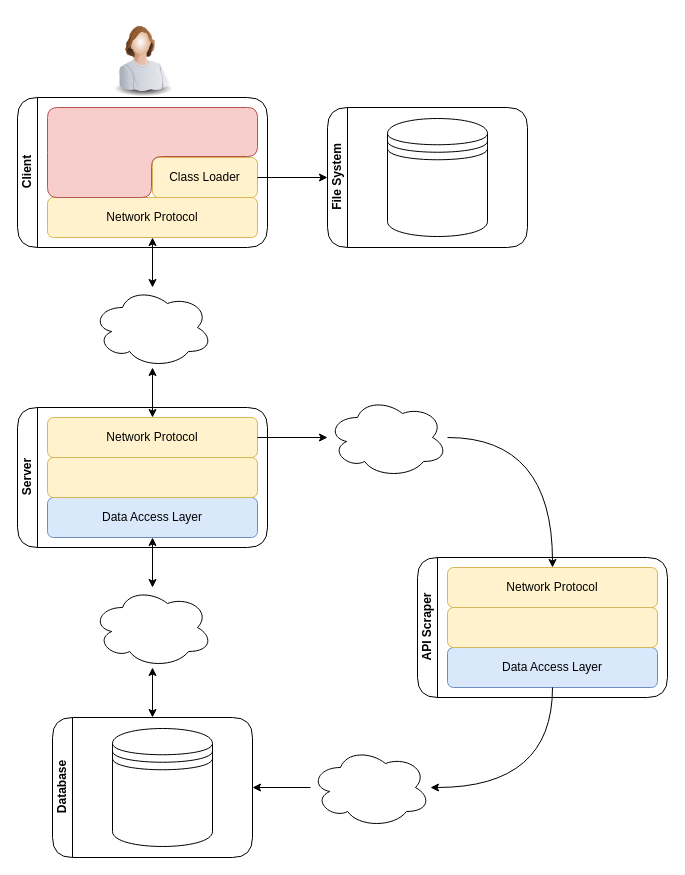
Some shapes in this 685 by 875 pixel diagram are drawn without their labels. Each missing label, with the centre of its shape:
Data Conversion Logic: the point at 552,627
MongoDB: the point at 162,787
Strategy Runner Engine: the point at 152,477
User Interface: the point at 152,152
